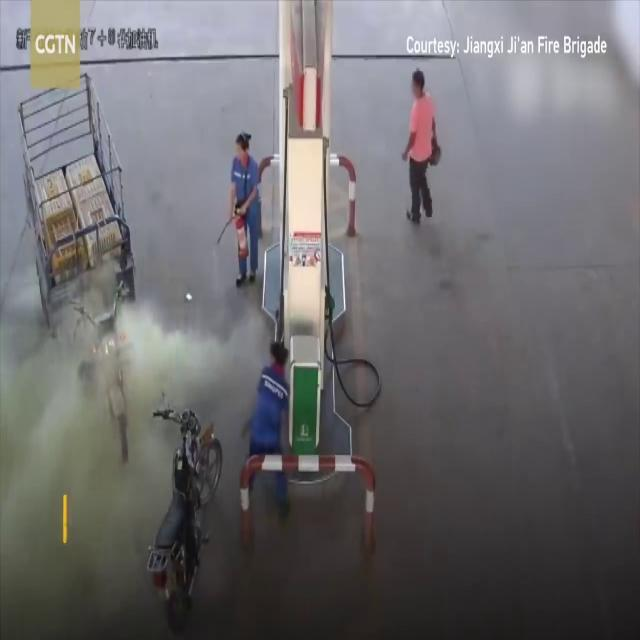Smoke: (116, 266, 268, 439)
